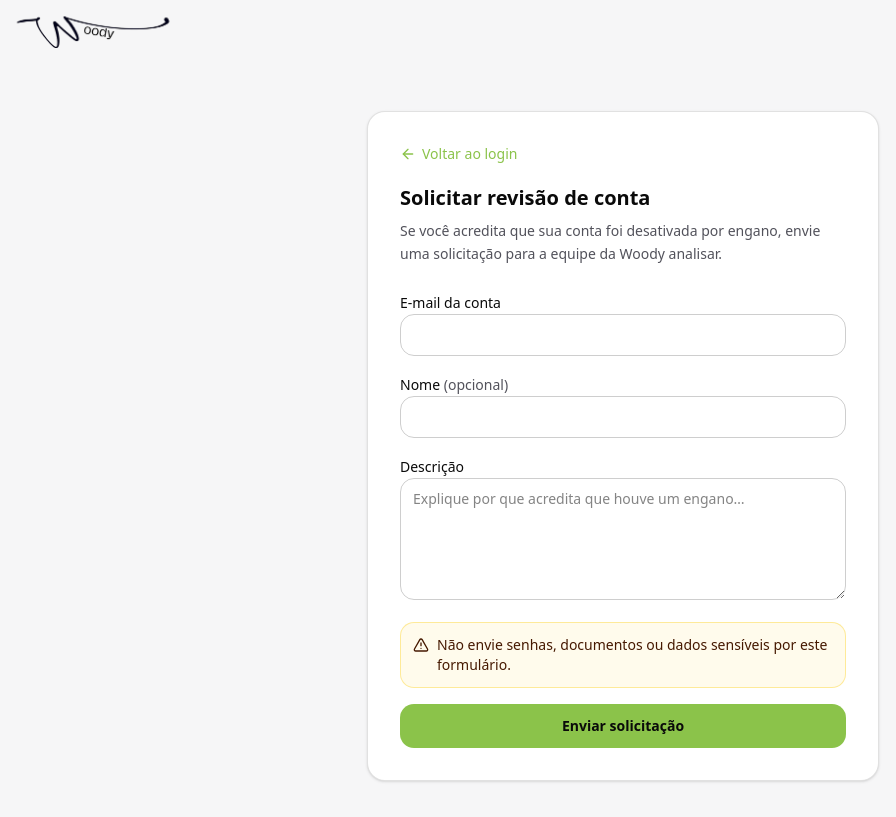
Scenario: BanAppealPage › exige e-mail e descrição
Click the button "Enviar solicitação" at [623, 726], box [400, 704, 846, 748]
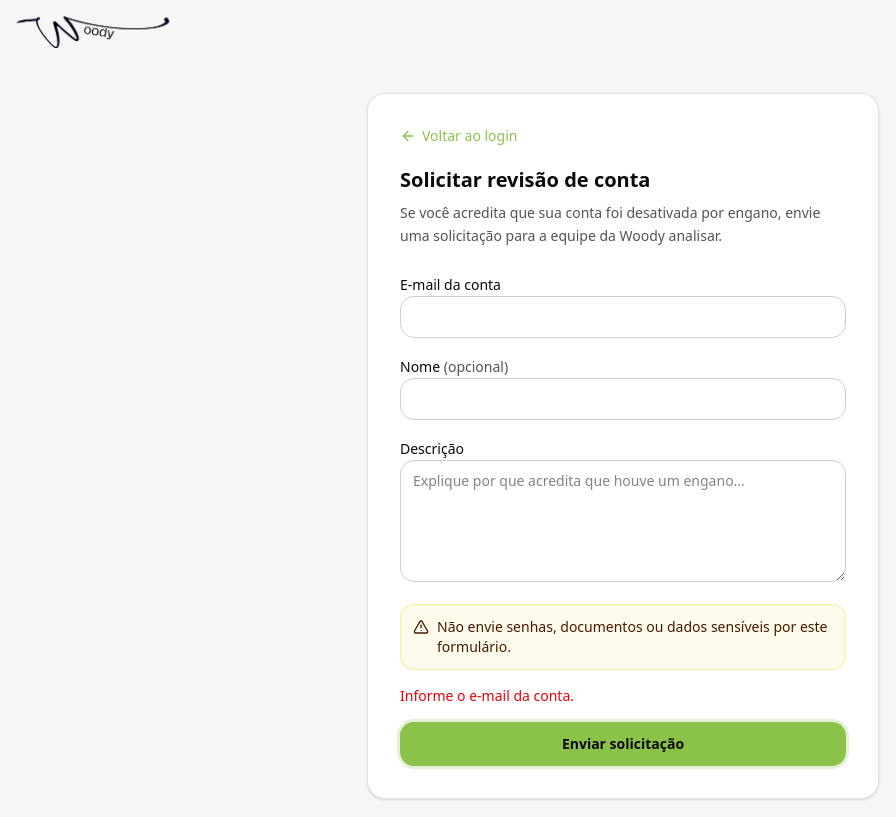
Expected: the message shows "e-mail", [400, 686, 574, 705]
